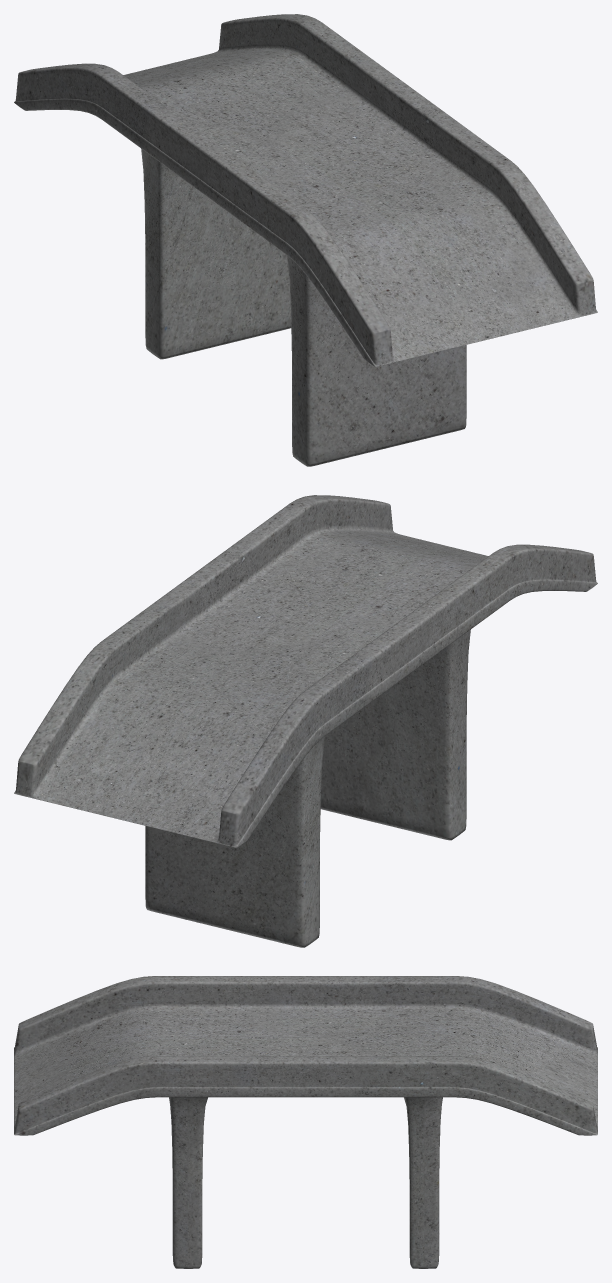
Rendered from bridge.fbx.
3 views of the same model, one above another, from view 1: azimuth 30°, elevation 25°; view 2: azimuth 150°, elevation 25°; view 3: azimuth 270°, elevation 25° (orthographic). The views are drawn at different scales.
Visible parts, largest first — view 1: Cube; view 2: Cube; view 3: Cube.
Part boxes in pixels (left/top/right/bottom): Cube: left=14, top=14, right=597, bottom=466; Cube: left=14, top=495, right=597, bottom=947; Cube: left=14, top=976, right=597, bottom=1268.
Bounding box in the file's own units: 1121 × 1297 × 3141.
1 material, 1 textured.
